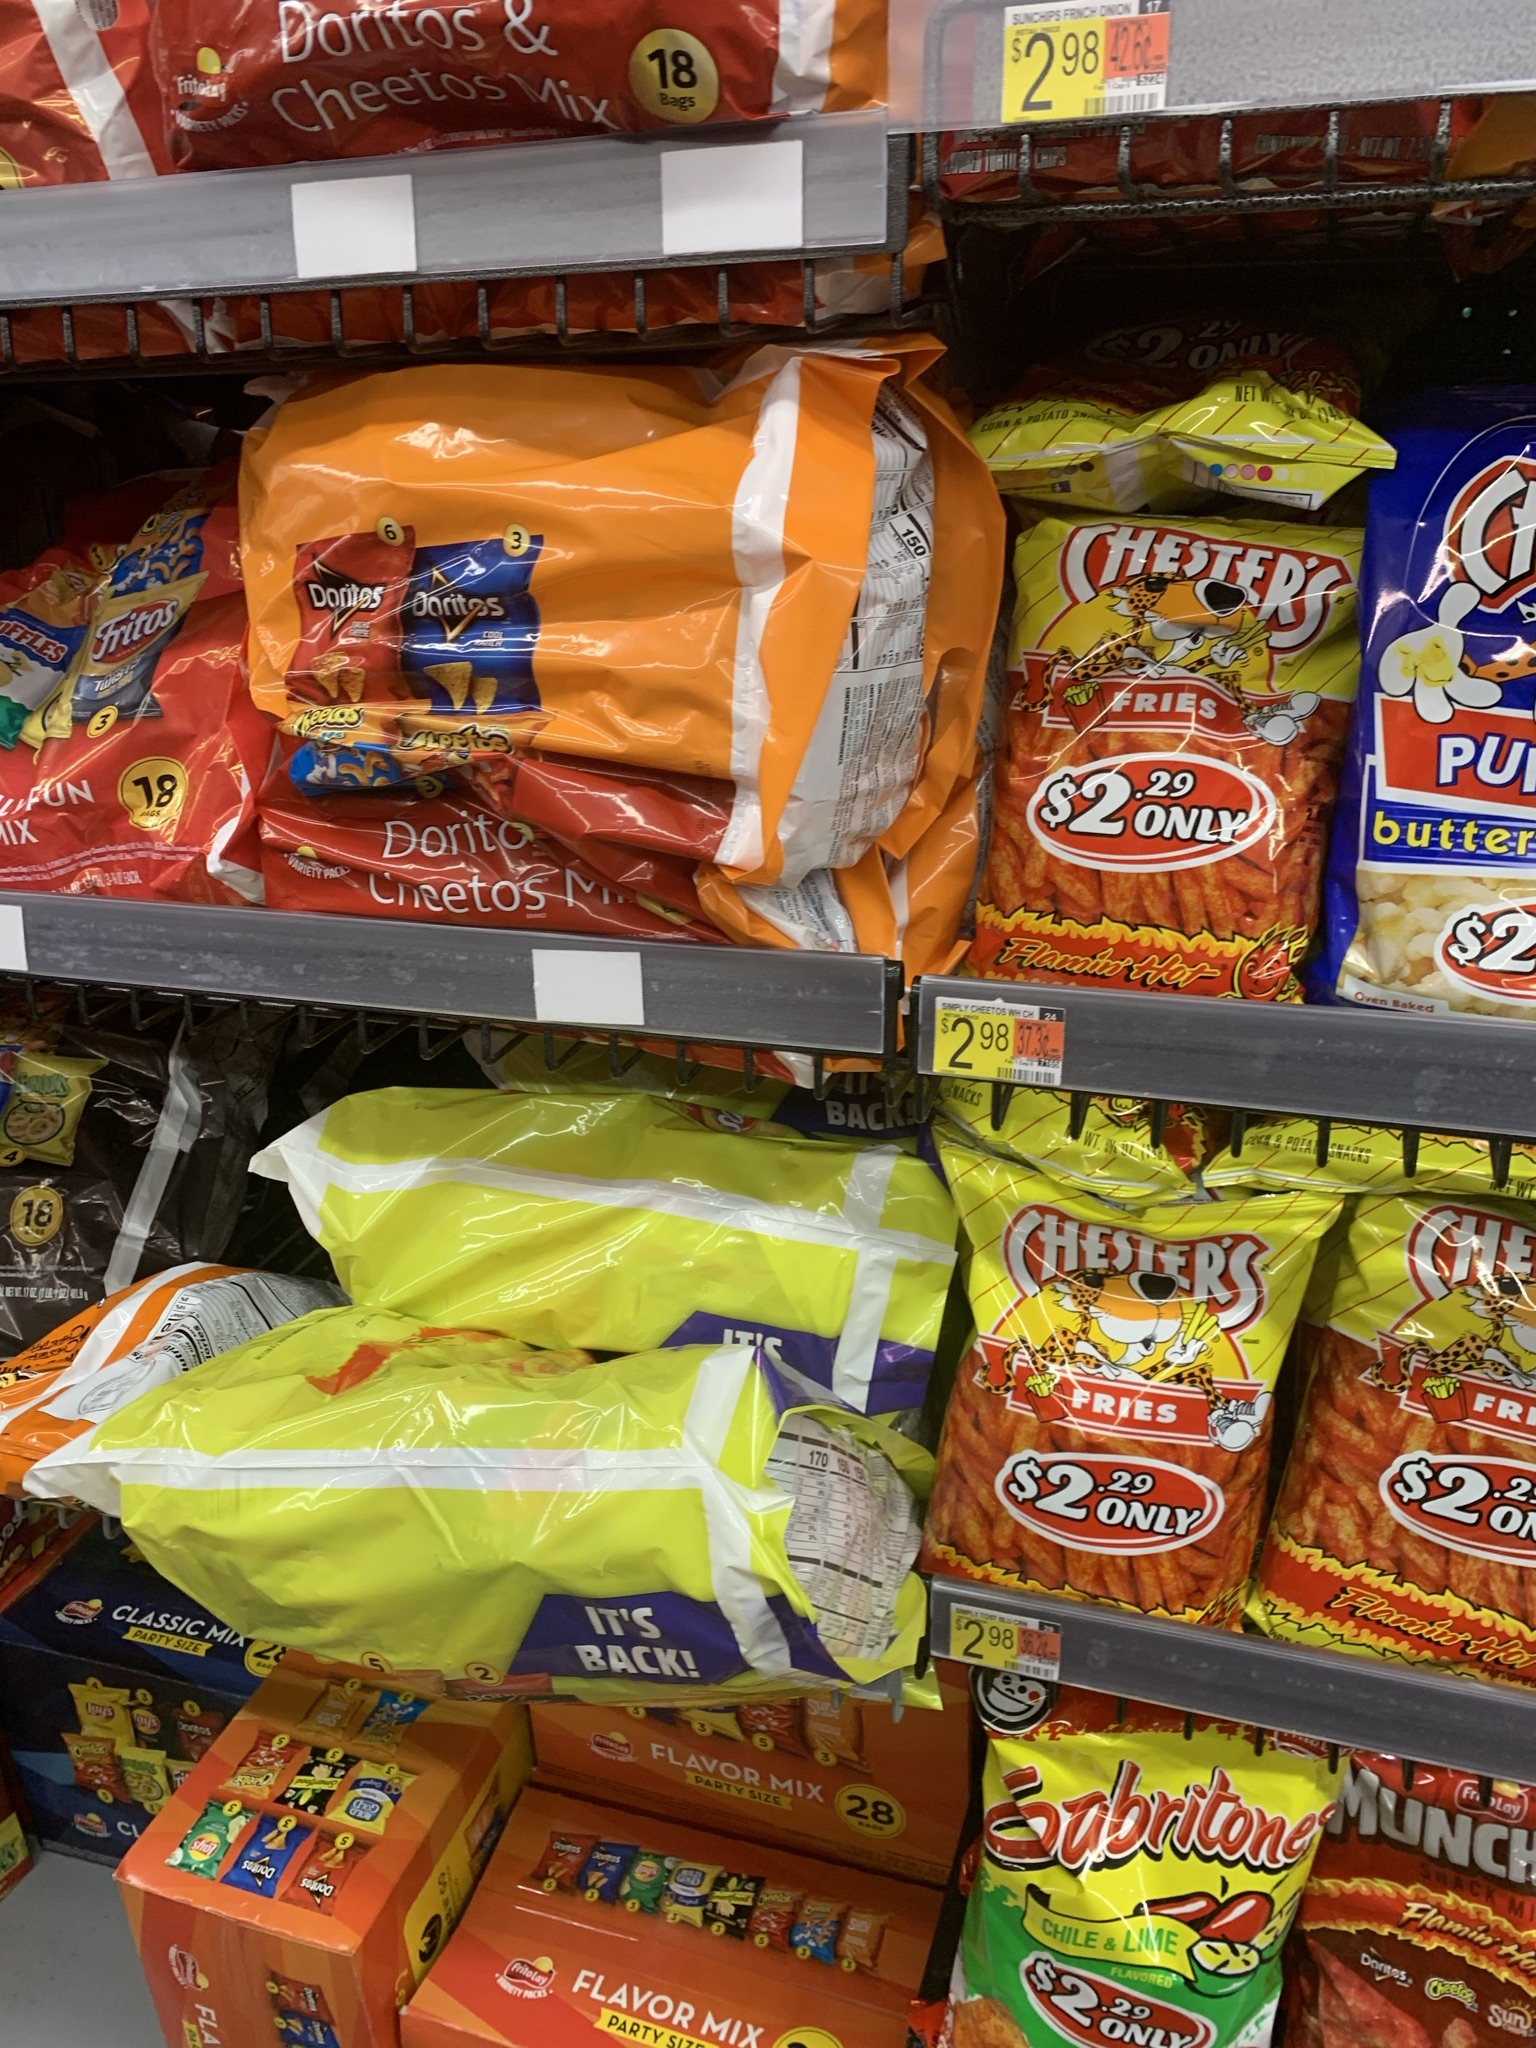Chips: (992, 502, 1331, 989)
